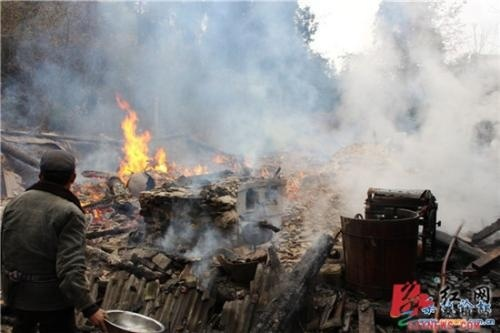fire: (114, 95, 172, 177)
